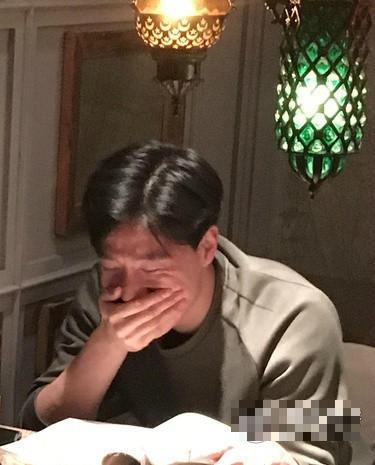face: (98, 214, 195, 353)
